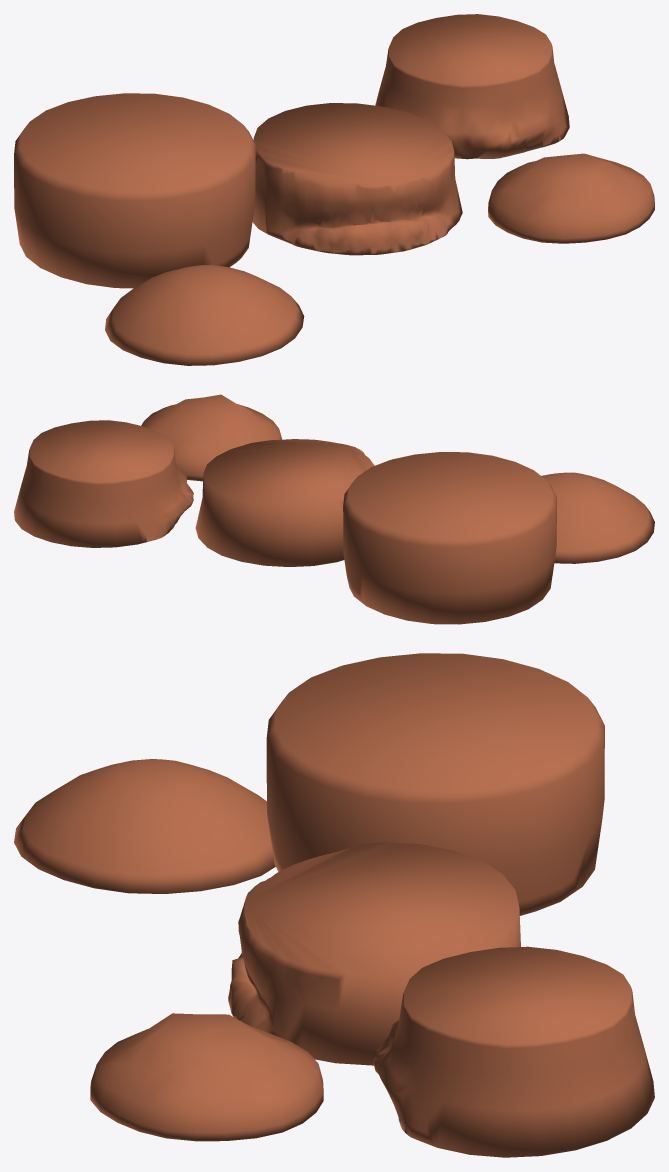
Rendered from Mandragora_Recortada.fbx.
3 renders of one model, top to bottom at view 1: azimuth 30°, elevation 25°; view 2: azimuth 150°, elevation 25°; view 3: azimuth 270°, elevation 25°, orthographic. The views are drawn at different scales.
Parts seen in each view (by area): view 1: Cylinder.013; view 2: Cylinder.013; view 3: Cylinder.013.
Boxes of the visible parts, <box> form: Cylinder.013: <box>14,14,654,365</box>; Cylinder.013: <box>14,394,654,624</box>; Cylinder.013: <box>14,653,654,1157</box>.
Size of the model in its own units: 43.91 by 7.64 by 30.64.
